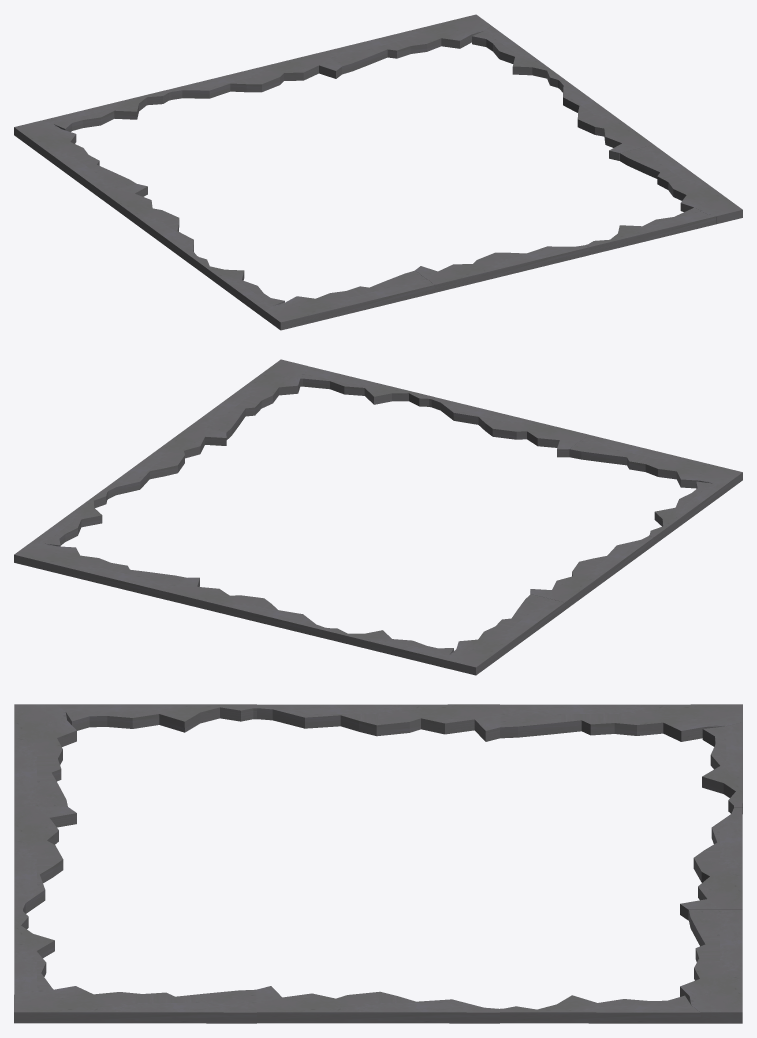
The model's file is slomljen zid medjusprat.fbx.
3 renders of one model, top to bottom at view 1: azimuth 30°, elevation 25°; view 2: azimuth 150°, elevation 25°; view 3: azimuth 270°, elevation 25°, orthographic. The views are drawn at different scales.
Visible parts, largest first — view 1: halfall_3.001, halfall_3.010, halfall_3.013, halfall_3.007, halfall_3.011, halfall_3.003, halfall_3.008, halfall_3.014, halfall_3.005, halfall_3.012, halfall_3.015, halfall_3.009; view 2: halfall_3.010, halfall_3.001, halfall_3.007, halfall_3.013, halfall_3.011, halfall_3.003, halfall_3.014, halfall_3.008, halfall_3.005, halfall_3.012, halfall_3.009, halfall_3.015; view 3: halfall_3.013, halfall_3.007, halfall_3.008, halfall_3.014, halfall_3.010, halfall_3.001, halfall_3.003, halfall_3.015, halfall_3.009, halfall_3.011, halfall_3.012, halfall_3.005.
Boxes of the visible parts, <box> form: halfall_3.001: <box>265,270,434,330</box>; halfall_3.010: <box>322,14,491,74</box>; halfall_3.013: <box>620,145,742,224</box>; halfall_3.007: <box>14,120,136,199</box>; halfall_3.011: <box>168,52,341,99</box>; halfall_3.003: <box>415,245,588,292</box>; halfall_3.008: <box>103,184,196,265</box>; halfall_3.014: <box>559,79,653,160</box>; halfall_3.005: <box>586,207,716,255</box>; halfall_3.012: <box>41,89,171,131</box>; halfall_3.015: <box>472,26,564,88</box>; halfall_3.009: <box>192,256,284,318</box>; halfall_3.010: <box>14,543,186,600</box>; halfall_3.001: <box>569,435,742,490</box>; halfall_3.007: <box>449,594,564,675</box>; halfall_3.013: <box>192,359,307,439</box>; halfall_3.011: <box>168,577,324,637</box>; halfall_3.003: <box>431,397,588,457</box>; halfall_3.014: <box>103,424,226,498</box>; halfall_3.008: <box>530,536,653,609</box>; halfall_3.005: <box>300,366,434,407</box>; halfall_3.012: <box>322,627,453,668</box>; halfall_3.009: <box>649,481,727,544</box>; halfall_3.015: <box>29,489,108,546</box>; halfall_3.013: <box>14,986,256,1023</box>; halfall_3.007: <box>500,704,742,741</box>; halfall_3.008: <box>257,704,499,741</box>; halfall_3.014: <box>257,986,499,1023</box>; halfall_3.010: <box>680,910,742,1023</box>; halfall_3.001: <box>14,704,76,806</box>; halfall_3.003: <box>14,807,76,913</box>; halfall_3.015: <box>500,995,700,1023</box>; halfall_3.009: <box>56,704,256,732</box>; halfall_3.011: <box>680,807,742,920</box>; halfall_3.012: <box>702,722,742,813</box>; halfall_3.005: <box>14,909,54,994</box>.
Bounding box in the file's own units: 1046 × 17.56 × 1046.
Materials: 1 (1 with a texture image).
